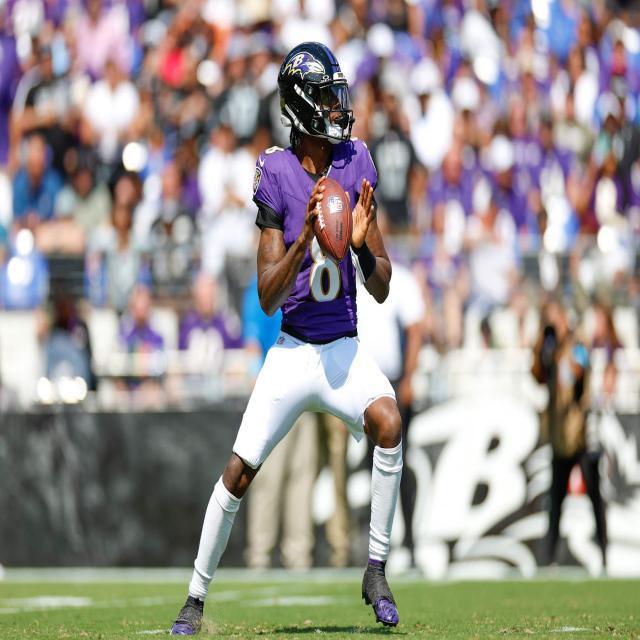Ball: (313, 175, 352, 265)
